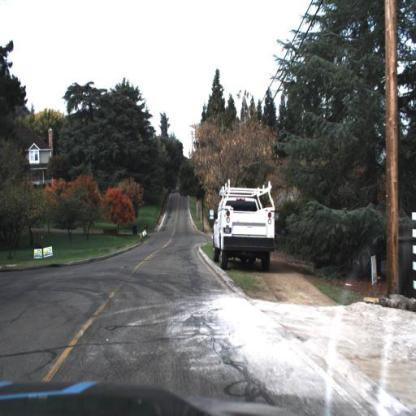car: (212, 178, 278, 274), (212, 182, 283, 270)
